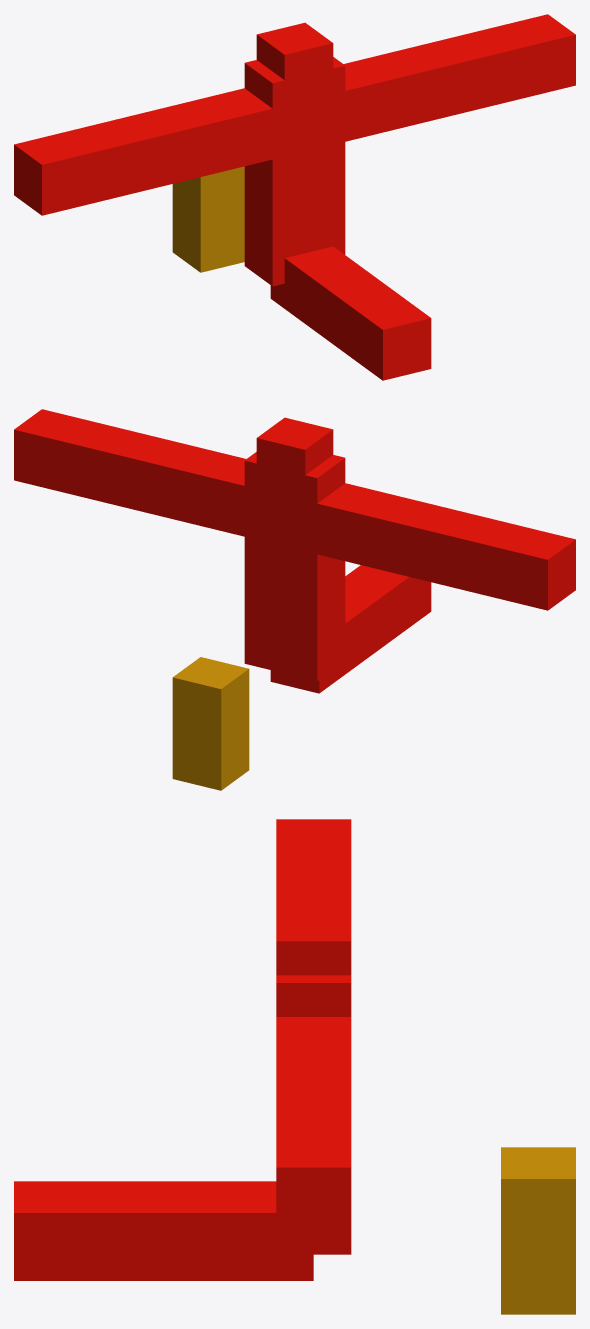
The model's file is PheonixScale.fbx.
3 renders of one model, top to bottom at view 1: azimuth 30°, elevation 25°; view 2: azimuth 150°, elevation 25°; view 3: azimuth 270°, elevation 25°, orthographic. The views are drawn at different scales.
Parts seen in each view (by area): view 1: Cube, Cube__1_, Cube__2_, Cube__3_, Player, Cube__4_; view 2: Cube, Cube__2_, Cube__1_, Player, Cube__3_, Cube__4_; view 3: Cube__3_, Cube__1_, Player, Cube, Cube__4_, Cube__2_.
Part boxes in pixels (<box>): Cube: <box>14,88,284,215</box>; Cube__1_: <box>334,14,575,141</box>; Cube__2_: <box>244,57,345,286</box>; Cube__3_: <box>270,246,431,380</box>; Player: <box>172,166,244,272</box>; Cube__4_: <box>256,22,333,104</box>; Cube: <box>305,483,575,610</box>; Cube__2_: <box>244,452,345,681</box>; Cube__1_: <box>14,409,256,539</box>; Player: <box>172,657,249,790</box>; Cube__3_: <box>270,565,431,693</box>; Cube__4_: <box>256,417,333,500</box>; Cube__3_: <box>14,1181,313,1280</box>; Cube__1_: <box>276,1017,351,1235</box>; Player: <box>501,1147,575,1314</box>; Cube: <box>276,819,351,909</box>; Cube__4_: <box>276,909,351,975</box>; Cube__2_: <box>276,975,351,1254</box>.
Size of what is drawn, in the model's own units: 1100 by 550 by 750.
